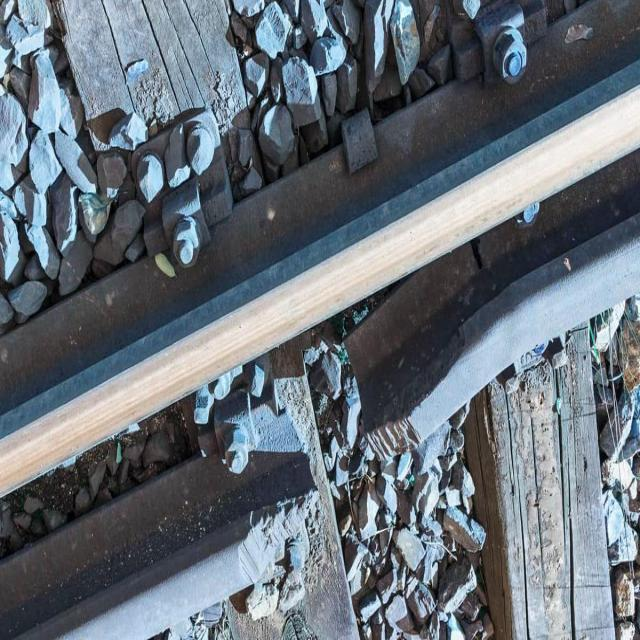Good Fasteners: (132, 112, 233, 267), (475, 14, 544, 84)
